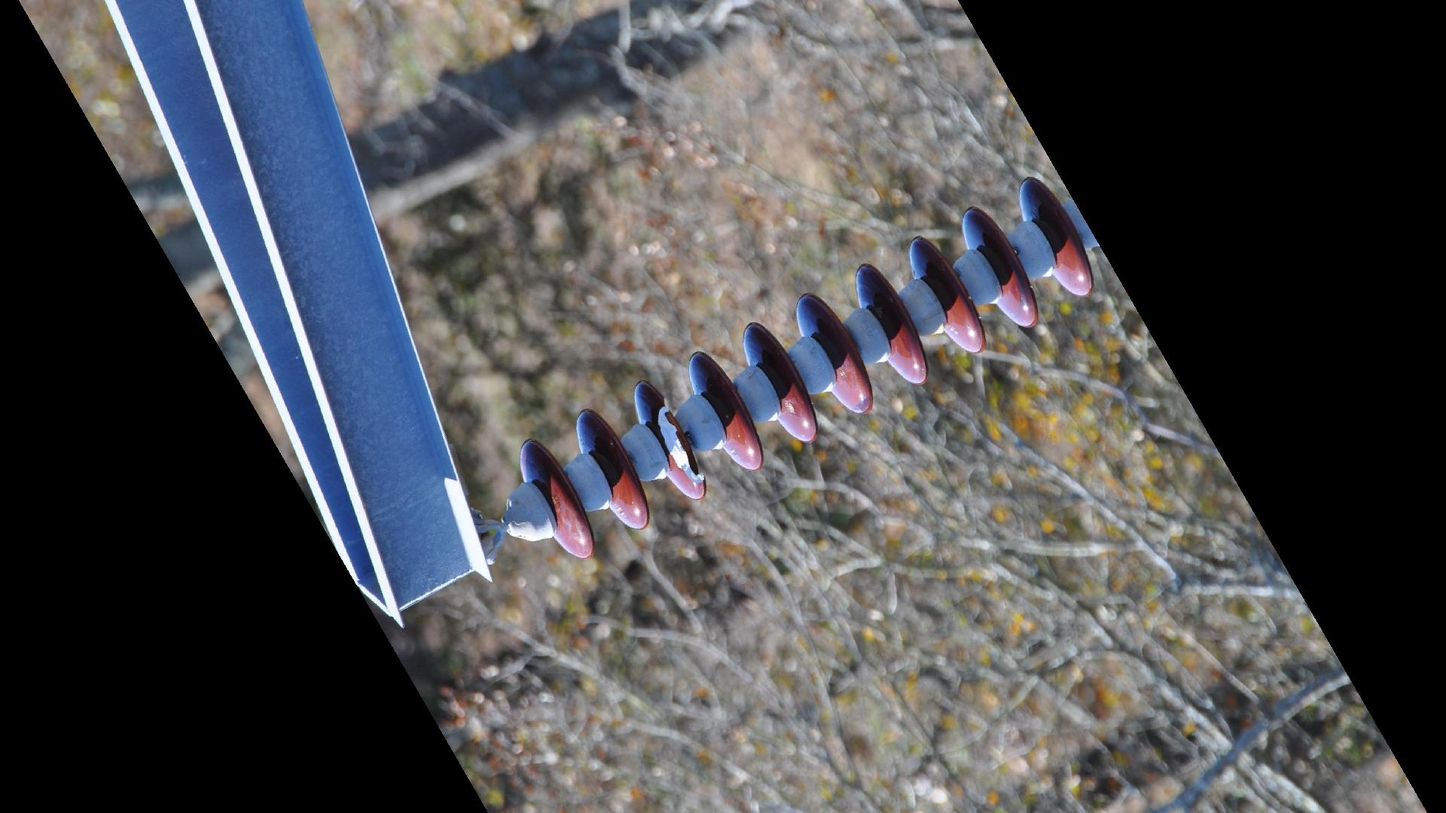insulator: (511, 172, 1100, 564)
insulator_breakage: (653, 397, 712, 489)
